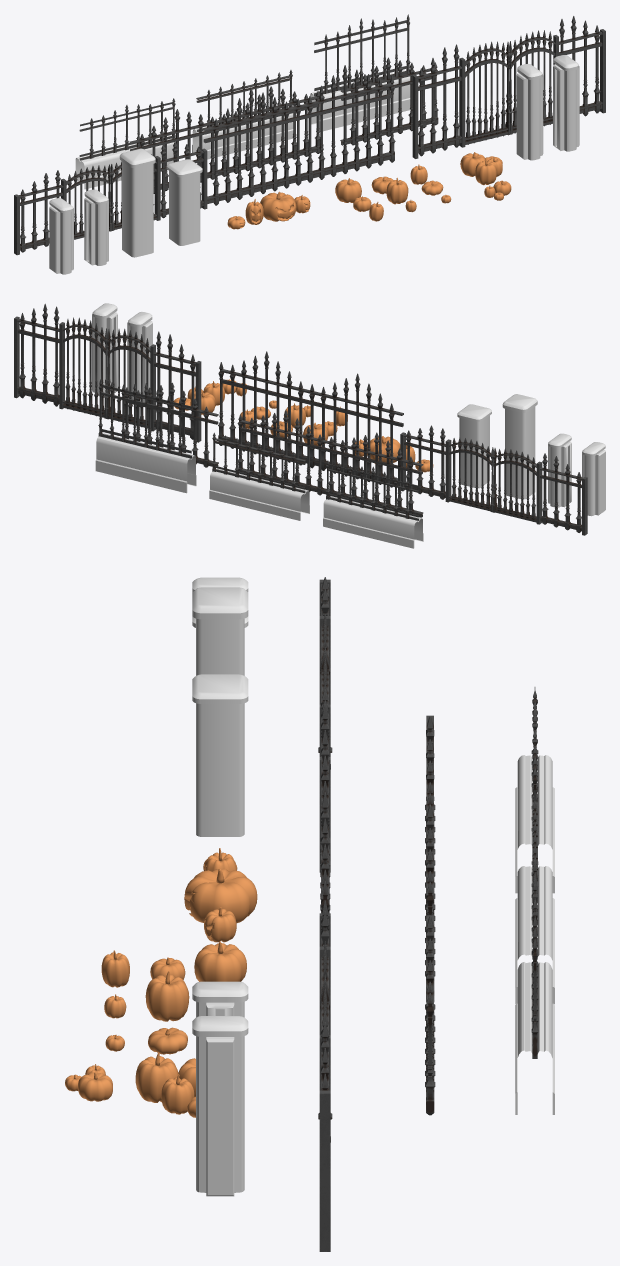
The model's file is Gates_and_Pumpkins_1A1.fbx.
The picture shows the model from 3 angles, top to bottom: view 1: azimuth 30°, elevation 25°; view 2: azimuth 150°, elevation 25°; view 3: azimuth 270°, elevation 25°; orthographic projection. The views are drawn at different scales.
Parts seen in each view (by area): view 1: Gate_1B1, Gate_Doorway_1B1, Gate_1A2, Wall_Gate_1B1, Wall_Pillar_1B1, Gate_Doorway_1A1, Gate_Door_2L, Wall_Gate_1A1, Wall_Pillar_1A1, Wall_Gate_1A2, Doorway_Post_2L, Doorway_Post_2R (+13 smaller); view 2: Gate_1B1, Wall_Gate_1B1, Gate_Doorway_1B1, Gate_1A2, Wall_Gate_1A2, Wall_Gate_1A1, Gate_Doorway_1A1, Wall_Pillar_1B1, Gate_Door_2R, Gate_Door_2L, Wall_Pillar_1A1, Gate_Door_1L (+8 smaller); view 3: Doorway_Post_2R, Wall_Pillar_1A1, Wall_Pillar_1B1, Wall_Gate_1B1, Wall_Gate_1A2, Wall_Gate_1A1, Gate_Doorway_1B1, Jack-O-Lantern_1A1, Pumpkin_Group_1A1, Gate_1A2, Doorway_Post_2L, Gate_Doorway_1A1 (+7 smaller).
Boxes of the visible parts, left/top/right/bottom form: Gate_1B1: left=203, top=65, right=393, bottom=205; Gate_Doorway_1B1: left=412, top=16, right=605, bottom=158; Gate_1A2: left=129, top=86, right=319, bottom=193; Wall_Gate_1B1: left=310, top=17, right=410, bottom=131; Wall_Pillar_1B1: left=119, top=148, right=155, bottom=257; Gate_Doorway_1A1: left=14, top=141, right=207, bottom=255; Gate_Door_2L: left=465, top=41, right=510, bottom=144; Wall_Gate_1A1: left=75, top=101, right=174, bottom=189; Wall_Pillar_1A1: left=166, top=159, right=202, bottom=245; Wall_Gate_1A2: left=192, top=72, right=293, bottom=159; Doorway_Post_2L: left=516, top=64, right=543, bottom=160; Doorway_Post_2R: left=553, top=55, right=579, bottom=151; Gate_1B1: left=220, top=351, right=403, bottom=487; Wall_Gate_1B1: left=95, top=382, right=196, bottom=493; Gate_Doorway_1B1: left=14, top=303, right=201, bottom=442; Gate_1A2: left=239, top=410, right=423, bottom=517; Wall_Gate_1A2: left=209, top=435, right=309, bottom=520; Wall_Gate_1A1: left=323, top=463, right=423, bottom=548; Gate_Doorway_1A1: left=400, top=425, right=587, bottom=535; Wall_Pillar_1B1: left=502, top=394, right=537, bottom=499; Gate_Door_2R: left=62, top=317, right=107, bottom=418; Gate_Door_2L: left=106, top=328, right=150, bottom=428; Wall_Pillar_1A1: left=457, top=404, right=491, bottom=488; Gate_Door_1L: left=492, top=448, right=536, bottom=522; Doorway_Post_2R: left=192, top=1016, right=248, bottom=1196; Wall_Pillar_1A1: left=192, top=674, right=248, bottom=836; Wall_Pillar_1B1: left=192, top=587, right=248, bottom=675; Wall_Gate_1B1: left=515, top=860, right=554, bottom=1114; Wall_Gate_1A2: left=515, top=801, right=554, bottom=1004; Wall_Gate_1A1: left=515, top=687, right=554, bottom=893; Gate_Doorway_1B1: left=319, top=900, right=330, bottom=1251; Jack-O-Lantern_1A1: left=184, top=869, right=257, bottom=923; Pumpkin_Group_1A1: left=135, top=1052, right=195, bottom=1117; Gate_1A2: left=425, top=715, right=435, bottom=986; Doorway_Post_2L: left=192, top=981, right=248, bottom=1017; Gate_Doorway_1A1: left=319, top=577, right=330, bottom=872.
Size of the model in its own units: 2513 by 451 by 934.
